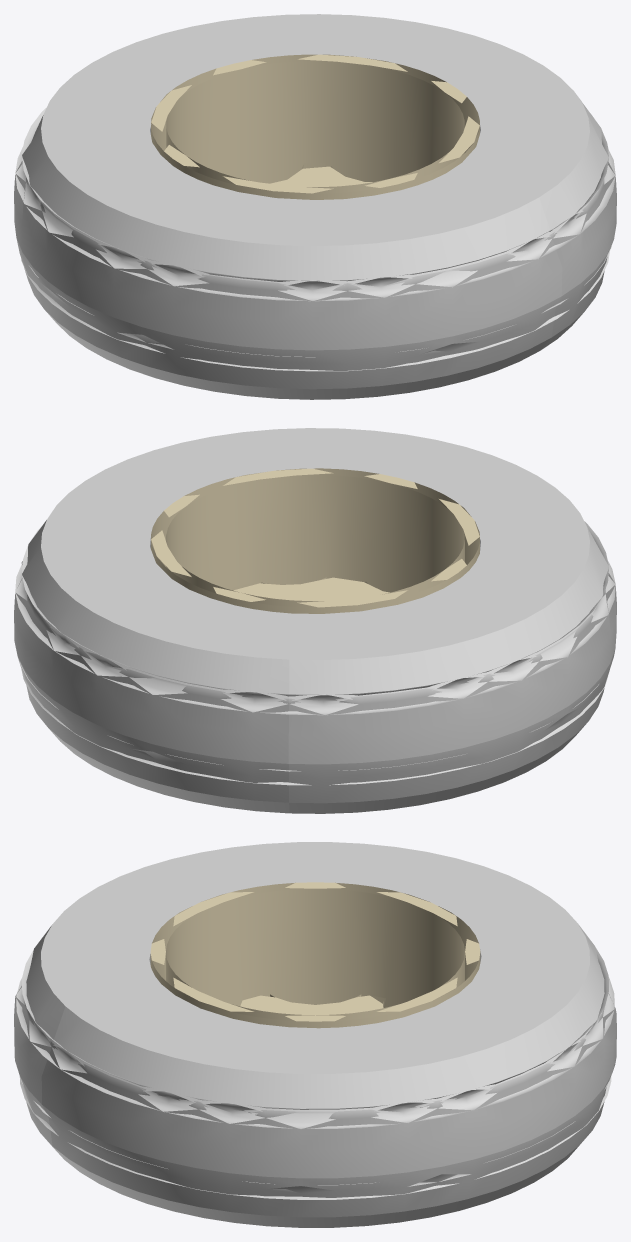
Rendered from front_right_wheel_visual.obj.
3 views of the same model, one above another, from view 1: azimuth 30°, elevation 25°; view 2: azimuth 150°, elevation 25°; view 3: azimuth 270°, elevation 25° (orthographic).
Visible parts, largest first — view 1: front_right_wheel_visual; view 2: front_right_wheel_visual; view 3: front_right_wheel_visual.
Part boxes in pixels (left/top/right/bottom): front_right_wheel_visual: left=14, top=14, right=616, bottom=399; front_right_wheel_visual: left=14, top=428, right=616, bottom=813; front_right_wheel_visual: left=14, top=842, right=616, bottom=1227.
Bounding box in the file's own units: 0.2056 × 0.0655 × 0.2056.
